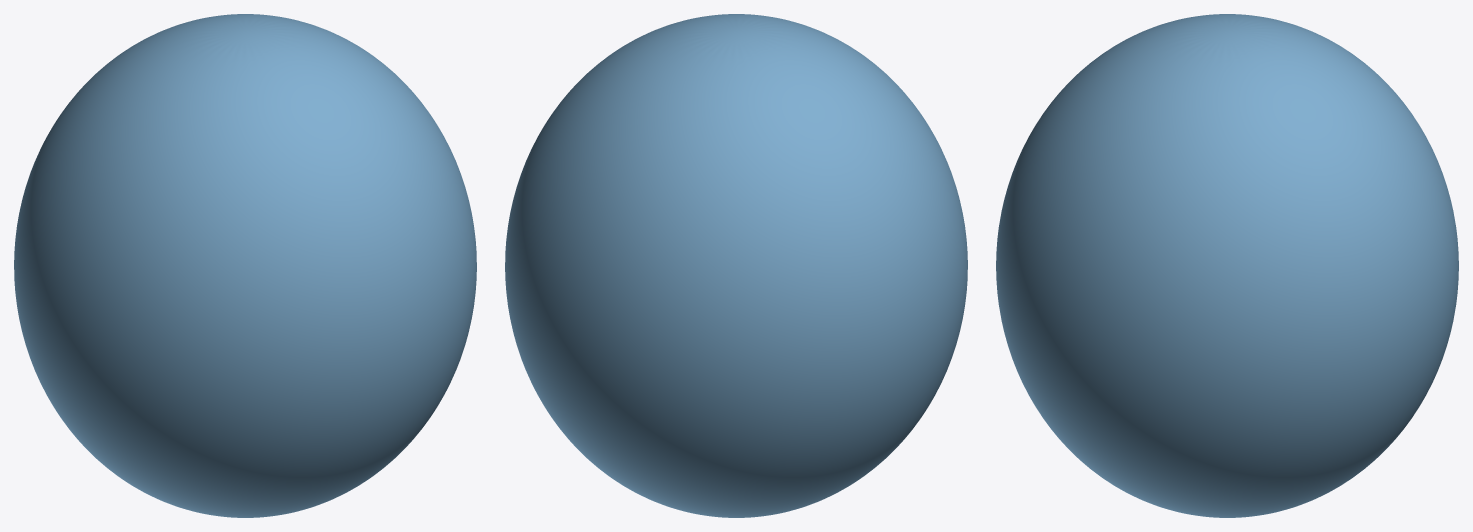
Rendered from celula_anafase.glb.
The picture shows the model from 3 angles, left to right: view 1: azimuth 30°, elevation 25°; view 2: azimuth 150°, elevation 25°; view 3: azimuth 270°, elevation 25°; orthographic projection.
Visible parts, largest first — view 1: MembranaCelular; view 2: MembranaCelular; view 3: MembranaCelular.
Part boxes in pixels (x1,y1,x2,y2): MembranaCelular: [14, 14, 476, 517]; MembranaCelular: [505, 14, 967, 517]; MembranaCelular: [996, 14, 1458, 517].
Bounding box in the file's own units: 15.8 × 17.56 × 15.8.
